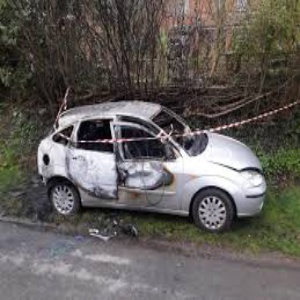door: (80, 160, 177, 208)
